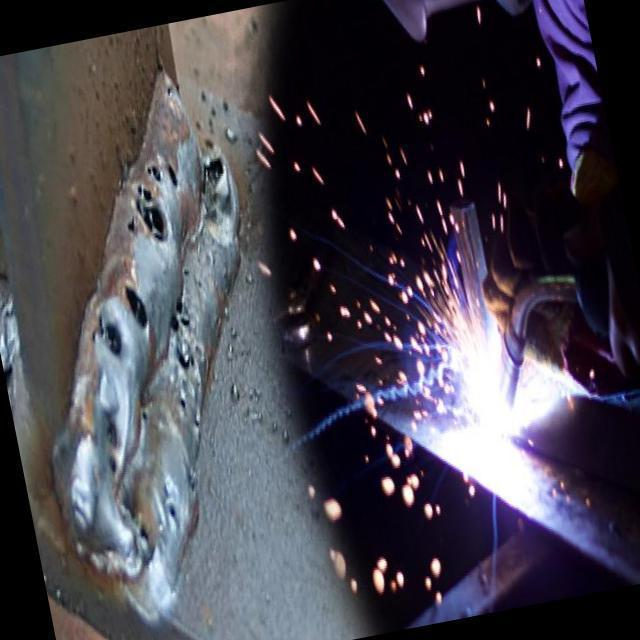defect: (122, 154, 184, 245), (198, 154, 232, 227), (120, 273, 151, 335), (89, 310, 125, 360), (131, 509, 153, 556), (169, 294, 192, 335), (175, 345, 196, 377), (106, 416, 120, 452), (166, 499, 180, 523), (186, 470, 197, 494), (109, 456, 117, 477), (166, 83, 174, 103), (193, 272, 201, 290), (181, 264, 189, 279), (179, 394, 186, 411), (141, 410, 148, 425), (194, 418, 199, 428)
